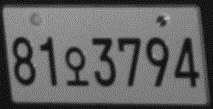1: (38, 36, 57, 86)
3: (91, 37, 116, 87)
4: (173, 36, 200, 88)
7: (117, 36, 141, 86)
8: (11, 36, 35, 86)
9: (145, 36, 169, 87)
오: (64, 45, 89, 87)
